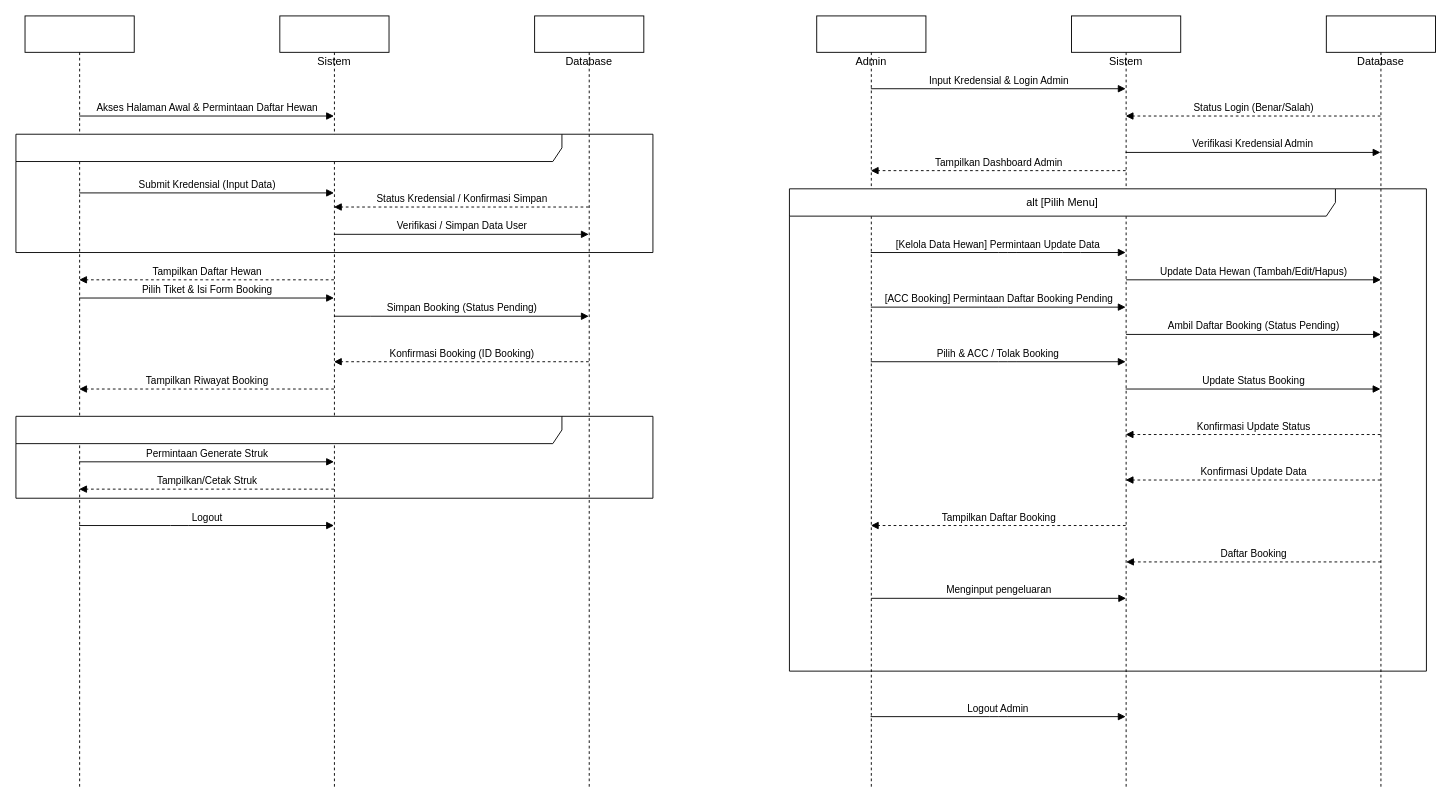
Image size: 1451x805. Some labels were removed from this diagram. The shapes that lost their labels are listed below. From the top down, each one's box as (x1, y1, x2, y2) in pixels, then its label:
(15, 133, 653, 253): opt [Jika Belum Login: Login/Register]
(24, 15, 134, 789): Pengunjung (User)
(15, 415, 653, 498): opt [Cetak Struk/Tiket]
